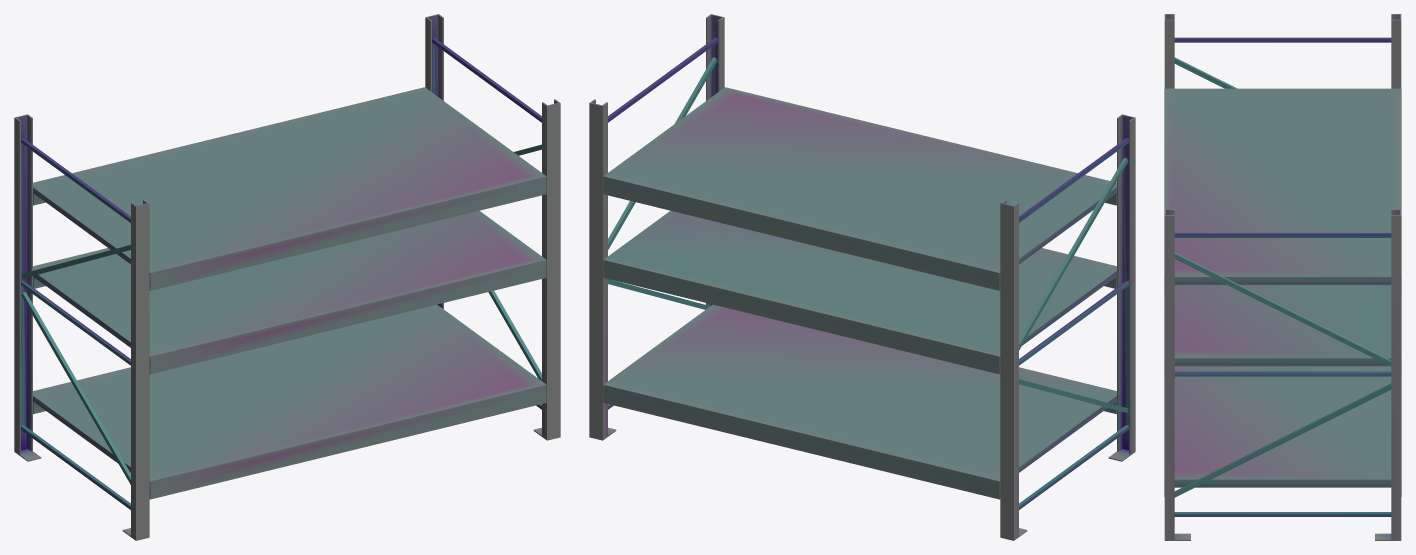
Rendered from simready-rack_large_empty_a02.glb.
The picture shows the model from 3 angles, left to right: view 1: azimuth 30°, elevation 25°; view 2: azimuth 150°, elevation 25°; view 3: azimuth 270°, elevation 25°; orthographic projection. The views are drawn at different scales.
Parts seen in each view (by area): view 1: deck.002, deck, deck.001, upright.001, upright; view 2: deck.002, deck, deck.001, upright.001, upright; view 3: deck.002, deck, deck.001, upright, upright.001.
Boxes of the visible parts, left/top/right/bottom form: deck.002: left=33, top=87, right=546, bottom=290; deck: left=33, top=304, right=546, bottom=499; deck.001: left=33, top=210, right=546, bottom=374; upright.001: left=14, top=114, right=149, bottom=540; upright: left=425, top=14, right=560, bottom=440; deck.002: left=603, top=87, right=1116, bottom=290; deck: left=603, top=304, right=1116, bottom=499; deck.001: left=603, top=210, right=1116, bottom=374; upright.001: left=1000, top=114, right=1135, bottom=540; upright: left=589, top=14, right=724, bottom=440; deck.002: left=1164, top=88, right=1401, bottom=293; deck: left=1164, top=366, right=1401, bottom=496; deck.001: left=1164, top=285, right=1401, bottom=375; upright: left=1164, top=209, right=1401, bottom=540; upright.001: left=1164, top=14, right=1401, bottom=88.
Size of the model in its own units: 4 by 3.01 by 1.99.
